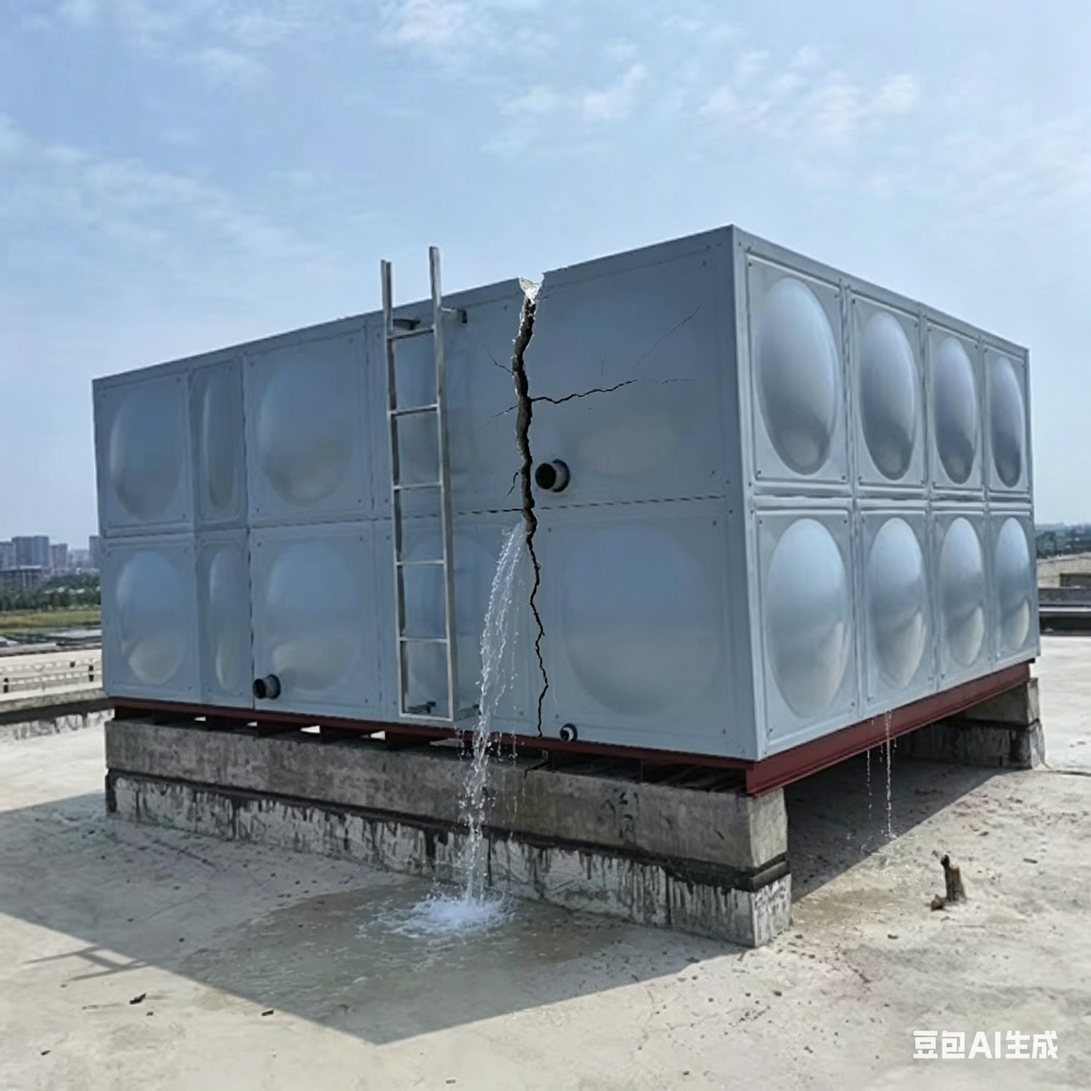Leakage: (449, 507, 543, 941), (383, 886, 445, 951)
